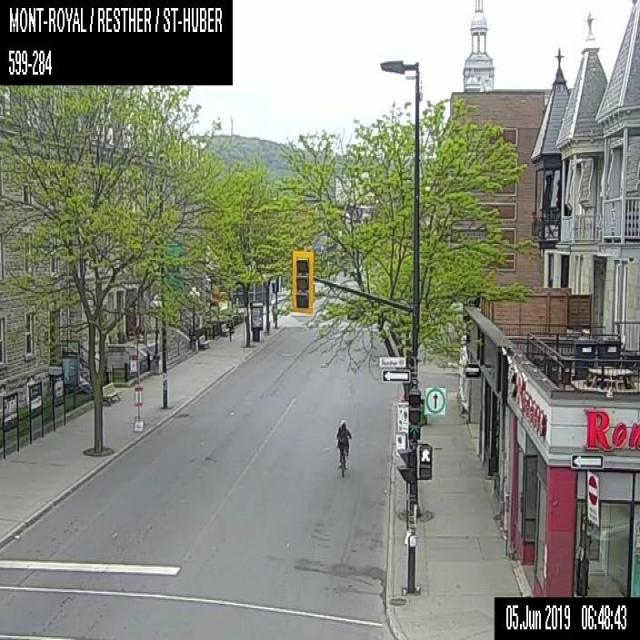cyclist: (335, 419, 351, 477)
